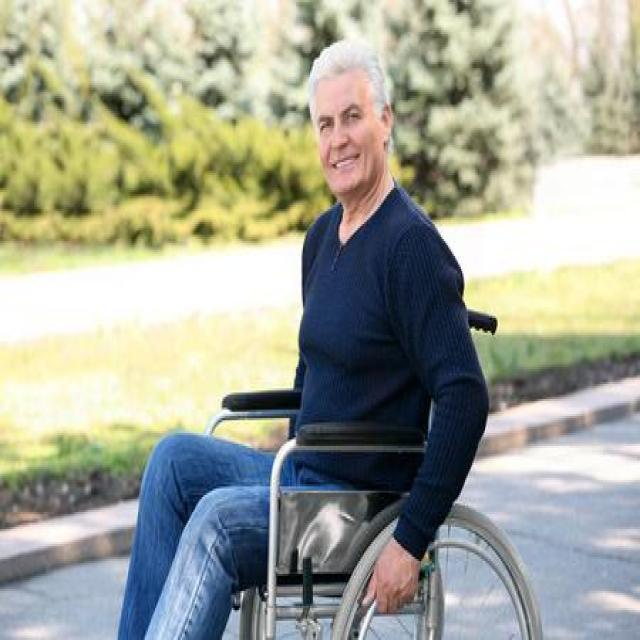wheelchairs: (188, 252, 552, 640)
